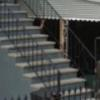stairs: (0, 0, 98, 100)
